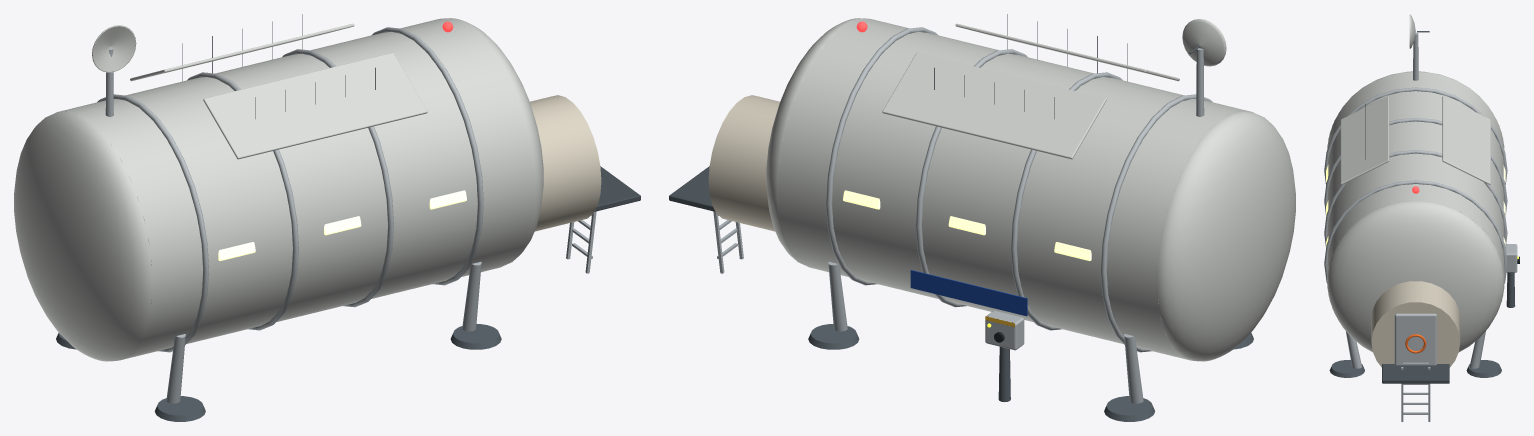
The model's file is lunar-habitat.glb.
3 views of the same model, side by side, from view 1: azimuth 30°, elevation 25°; view 2: azimuth 150°, elevation 25°; view 3: azimuth 270°, elevation 25° (orthographic). The views are drawn at different scales.
Parts seen in each view (by area): view 1: body-hull-white, body-panel-grey, airlock-hull-cream, body-dark-steel, body-aluminium, base_dish-hull-white, windows-hab-window, airlock-floor-grate, airlock-aluminium; view 2: body-hull-white, airlock-hull-cream, body-panel-grey, lunar-habitat-nasa-blue, body-dark-steel, body-aluminium, base_dish-hull-white, windows-hab-window, power_port-panel-grey, airlock-floor-grate, airlock-aluminium, power_port-dark-steel; view 3: body-hull-white, airlock-hull-cream, body-panel-grey, airlock-panel-grey, airlock-floor-grate, body-dark-steel, body-aluminium, airlock-aluminium, power_port-panel-grey, power_port-dark-steel, base_antenna-aluminium.
Boxes of the visible parts, x1,y1,x2,y2 form: body-hull-white: (14,18,543,361); body-panel-grey: (97,27,483,352); airlock-hull-cream: (530,95,601,231); body-dark-steel: (56,324,501,421); body-aluminium: (166,262,481,403); base_dish-hull-white: (92,25,136,72); windows-hab-window: (218,190,466,260); airlock-floor-grate: (594,166,640,211); airlock-aluminium: (566,211,596,273); body-hull-white: (766,18,1295,361); airlock-hull-cream: (708,95,779,231); body-panel-grey: (826,27,1212,352); lunar-habitat-nasa-blue: (910,270,1027,316); body-dark-steel: (808,324,1253,421); body-aluminium: (828,262,1143,403); base_dish-hull-white: (1182,19,1226,66); windows-hab-window: (843,190,1091,260); power_port-panel-grey: (985,310,1024,350); airlock-floor-grate: (669,166,715,211); airlock-aluminium: (713,211,743,273); power_port-dark-steel: (998,347,1010,402); body-hull-white: (1327,71,1504,352); airlock-hull-cream: (1371,281,1460,367); body-panel-grey: (1324,87,1507,283); airlock-panel-grey: (1394,313,1436,365); airlock-floor-grate: (1382,364,1449,383); body-dark-steel: (1329,360,1501,377); body-aluminium: (1345,331,1485,368); airlock-aluminium: (1401,362,1430,421); power_port-panel-grey: (1505,244,1517,272); power_port-dark-steel: (1506,272,1515,307); base_antenna-aluminium: (1413,32,1418,80).
Bounding box in the file's own units: 10.73 × 6.48 × 4.63.
